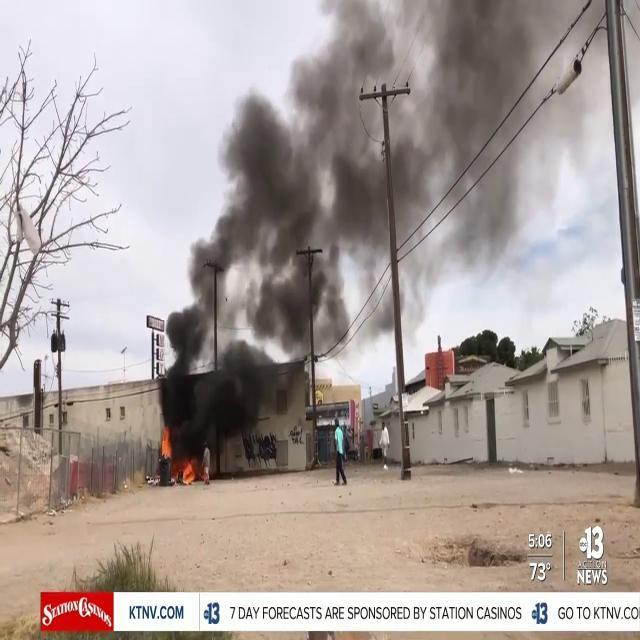Fire: (179, 455, 199, 489), (157, 422, 173, 462)
Smoke: (163, 0, 573, 367)
